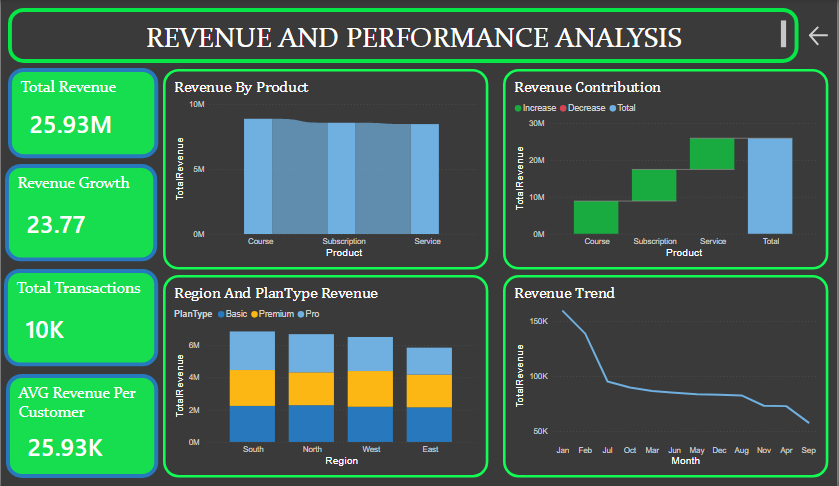

The dashboard page shown, as its layout file describes it:
{"tool":"powerbi","page":{"name":"R & P ANALYSIS","canvas":[1280,750],"ordinal":5},"visuals":[{"type":"ribbonChart","title":"Revenue By Product","fields":{"Category":["Transactions.Product"],"Y":["Customer_Master.TotalRevenue"]},"box":[247.5,106.6,498.4,306.6],"z":0},{"type":"lineChart","title":"Revenue Trend","fields":{"Y":["Customer_Master.TotalRevenue"],"Category":["DateTable.Month"]},"box":[768.9,423,498.4,309.8],"z":1000},{"type":"columnChart","title":"Region And PlanType Revenue","fields":{"Category":["Customer_Master.Region"],"Y":["Customer_Master.TotalRevenue"],"Series":["Subscription.PlanType"]},"box":[247.5,423,498.4,309.8],"z":2000},{"type":"waterfallChart","title":"Revenue Contribution","fields":{"Category":["Transactions.Product"],"Y":["Customer_Master.TotalRevenue"]},"box":[768.9,106.6,498.4,306.6],"z":3000},{"type":"cardVisual","title":"   Total Revenue","fields":{"Data":["Customer_Master.TotalRevenue"]},"box":[11.1,106.3,230.2,138.1],"z":4000},{"type":"cardVisual","title":"   Total Transactions","fields":{"Data":["Customer_Master.TotalTransactions"]},"box":[4.9,413.1,236.1,149.2],"z":5000},{"type":"cardVisual","title":"  Revenue Growth","fields":{"Data":["Subscription.RevenueGrowth"]},"box":[6.6,252.5,232.8,149.2],"z":6000},{"type":"cardVisual","title":"AVG Revenue Per Customer","fields":{"Data":["Engagement.Avg Revenue per Customer"]},"box":[8.2,573.8,232.8,159],"z":7000},{"type":"textbox","box":[11.5,13.1,1209.8,83.6],"z":8000},{"type":"actionButton","box":[1232.8,36.1,47.5,39.3],"z":9000}]}

Visuals, with their boxes in screenshot pixels (x1, y1, x2, y2), scaled from the page's 1280x750 canvas onto the 839x486 screenshot:
"Revenue By Product" ribbonChart: {"x1": 162, "y1": 69, "x2": 489, "y2": 268}
"Revenue Trend" lineChart: {"x1": 504, "y1": 274, "x2": 831, "y2": 475}
"Region And PlanType Revenue" columnChart: {"x1": 162, "y1": 274, "x2": 489, "y2": 475}
"Revenue Contribution" waterfallChart: {"x1": 504, "y1": 69, "x2": 831, "y2": 268}
"   Total Revenue" cardVisual: {"x1": 7, "y1": 69, "x2": 158, "y2": 158}
"   Total Transactions" cardVisual: {"x1": 3, "y1": 268, "x2": 158, "y2": 364}
"  Revenue Growth" cardVisual: {"x1": 4, "y1": 164, "x2": 157, "y2": 260}
"AVG Revenue Per Customer" cardVisual: {"x1": 5, "y1": 372, "x2": 158, "y2": 475}
textbox: {"x1": 8, "y1": 8, "x2": 801, "y2": 63}
actionButton: {"x1": 808, "y1": 23, "x2": 838, "y2": 49}
